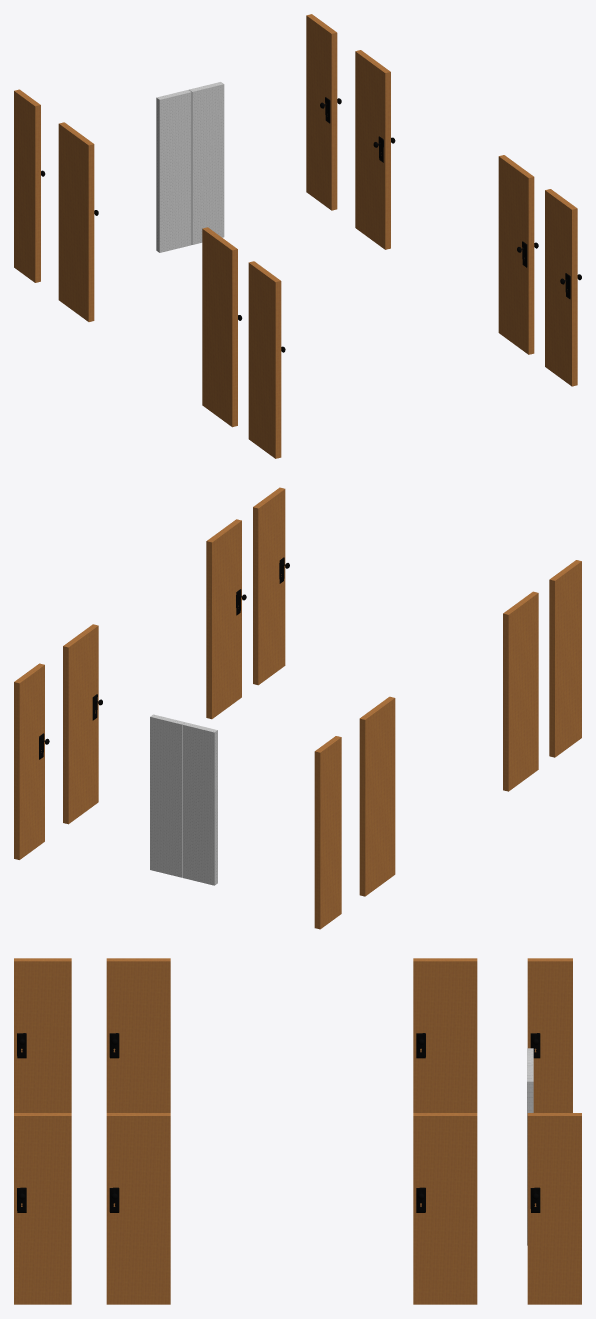
The model's file is 20251203_BUILDIUNG 4_doors.fbx.
3 views of the same model, one above another, from view 1: azimuth 30°, elevation 25°; view 2: azimuth 150°, elevation 25°; view 3: azimuth 270°, elevation 25° (orthographic). The views are drawn at different scales.
Visible parts, largest first — view 1: DOOR; view 2: DOOR; view 3: DOOR.
Part boxes in pixels (x1,y1,x2,y2): DOOR: [14, 14, 577, 458]; DOOR: [14, 487, 581, 929]; DOOR: [14, 958, 581, 1304].
Bounding box in the file's own units: 165 × 90 × 245.
3 materials, 2 textured.
